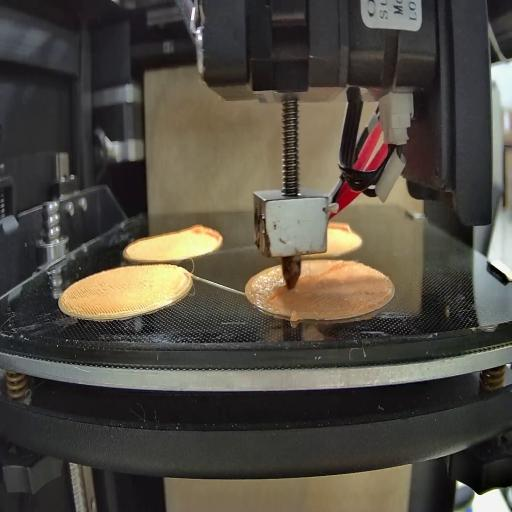over_extrusion: (185, 216, 224, 256), (302, 258, 351, 284), (268, 279, 287, 310), (330, 220, 352, 236)
